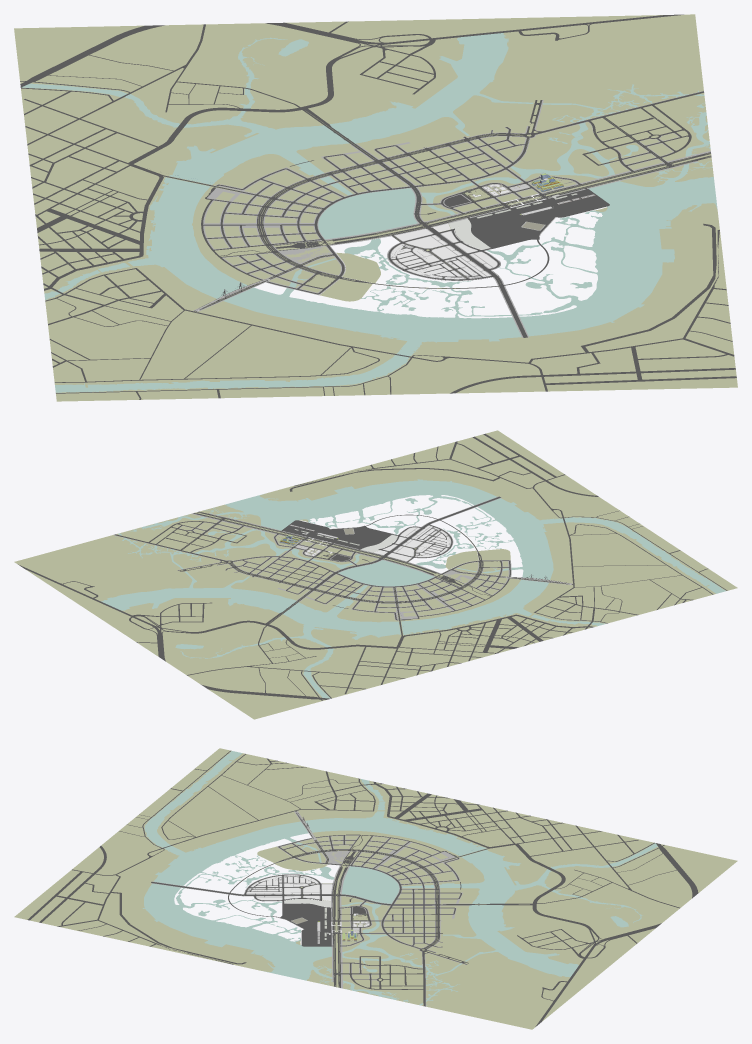
File: sala-part-06.glb
3 renders of one model, top to bottom at view 1: azimuth 30°, elevation 25°; view 2: azimuth 150°, elevation 25°; view 3: azimuth 270°, elevation 25°, orthographic. The views are drawn at different scales.
Visible parts, largest first — view 1: Group#12343, Xref_Khu II_QHCT 1-500_GT (QD 743)#3, Group#12342; view 2: Group#12343, Xref_Khu II_QHCT 1-500_GT (QD 743)#3, Group#12342; view 3: Group#12343, Xref_Khu II_QHCT 1-500_GT (QD 743)#3, Group#12342.
Part boxes in pixels (left/top/right/bottom): Group#12343: left=14, top=14, right=737, bottom=401; Xref_Khu II_QHCT 1-500_GT (QD 743)#3: left=387, top=223, right=500, bottom=280; Group#12342: left=320, top=252, right=380, bottom=301; Group#12343: left=14, top=430, right=737, bottom=719; Xref_Khu II_QHCT 1-500_GT (QD 743)#3: left=374, top=523, right=453, bottom=561; Group#12342: left=445, top=549, right=510, bottom=569; Group#12343: left=14, top=748, right=737, bottom=1029; Xref_Khu II_QHCT 1-500_GT (QD 743)#3: left=244, top=874, right=332, bottom=901; Group#12342: left=257, top=846, right=327, bottom=871.
Size of the model in its own units: 6383 by 86.25 by 6934.
